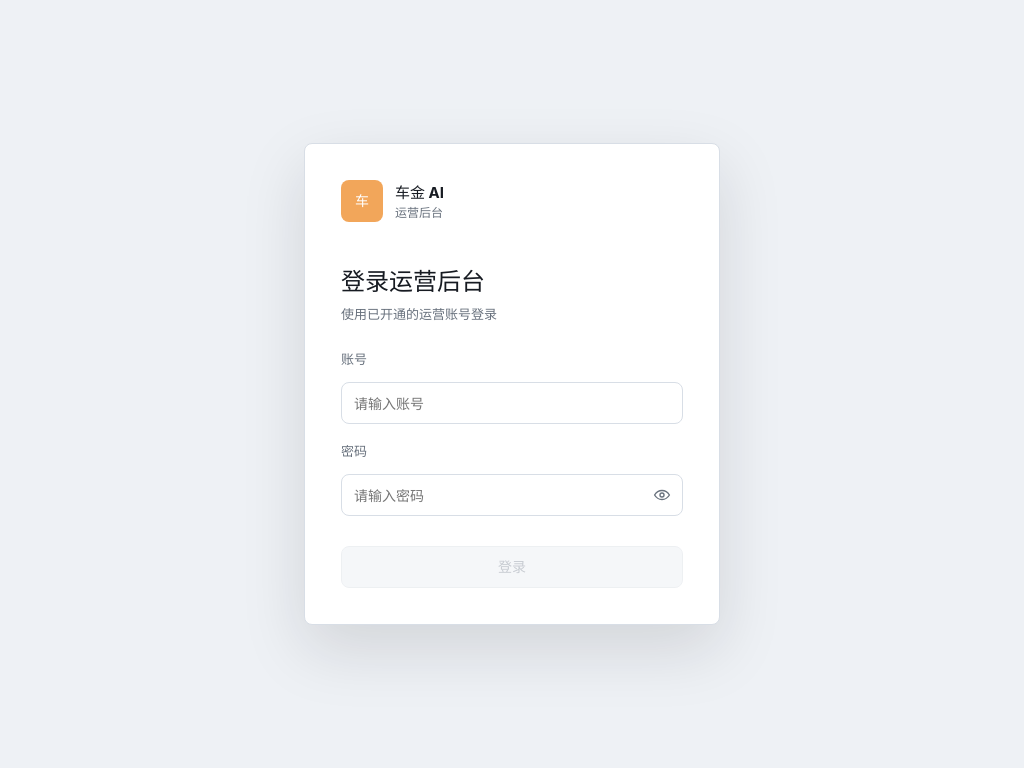
Test: 运营后台登录门禁 › 登录成功后进入默认空白工作区
The image size is (1024, 768).
In the field with placeholder "请输入账号": (512,403) [341,382,683,424], type "operator"
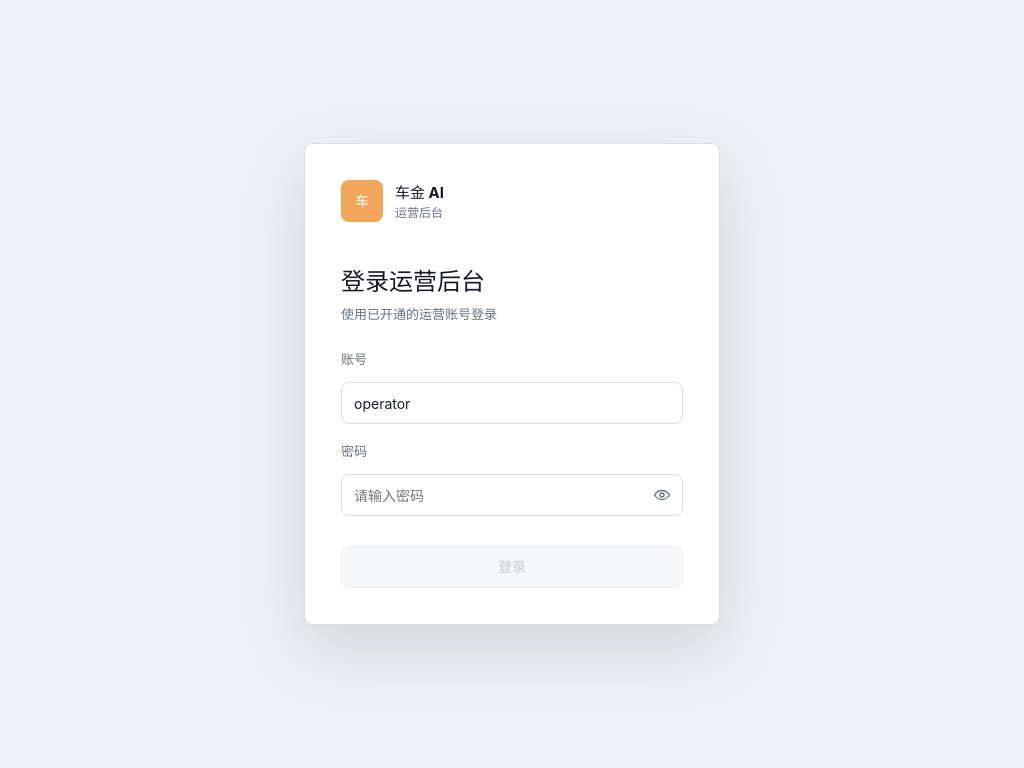
In the password field with placeholder "请输入密码": (512,495) [341,474,683,516], type "secret"
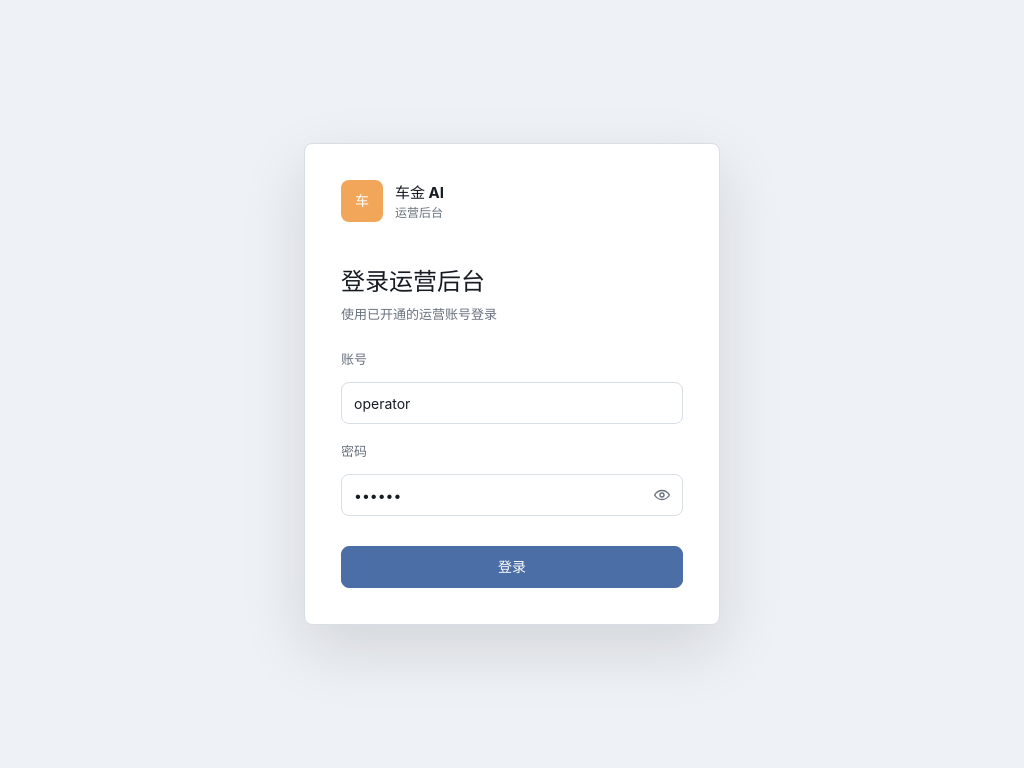
Click the button "登录": (512,567) [341,546,683,588]
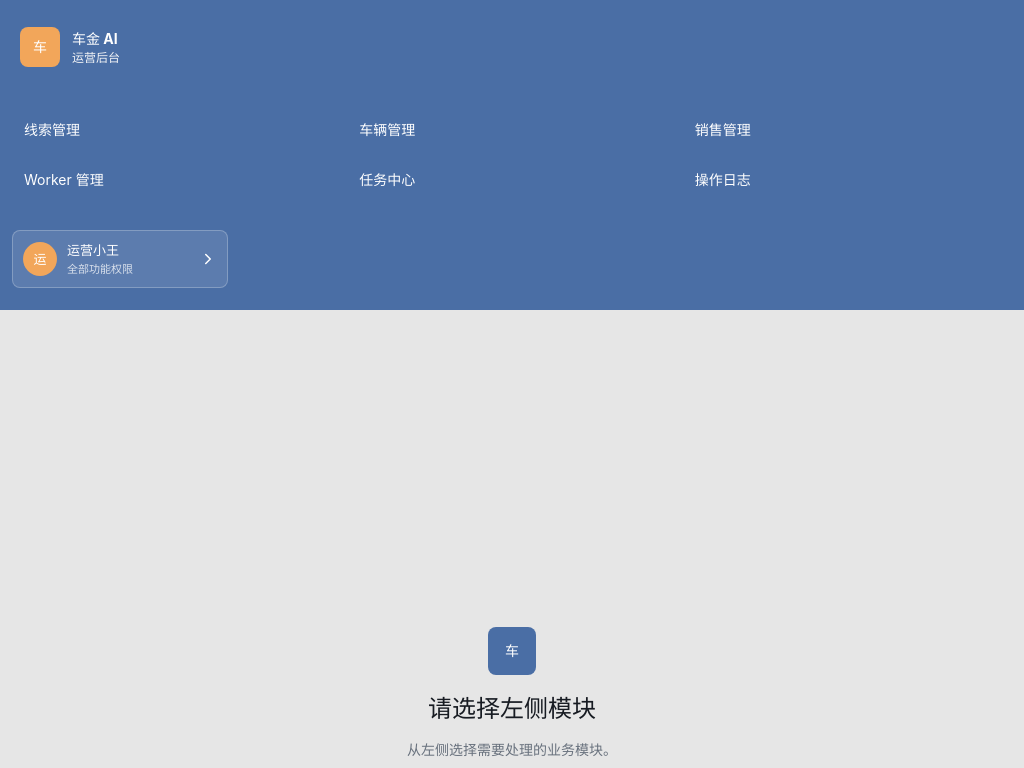
expect the heading "请选择左侧模块" is shown: met, box [428,694,596,723]
